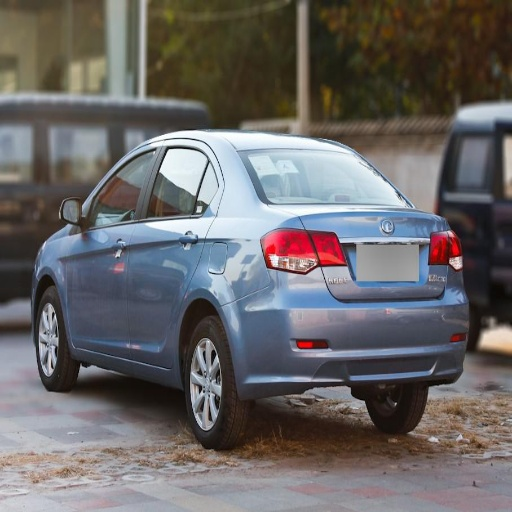back_bumper: (224, 265, 470, 401)
back_glass: (239, 149, 401, 204)
back_left_door: (128, 139, 223, 365)
tailgate: (295, 204, 435, 299)
